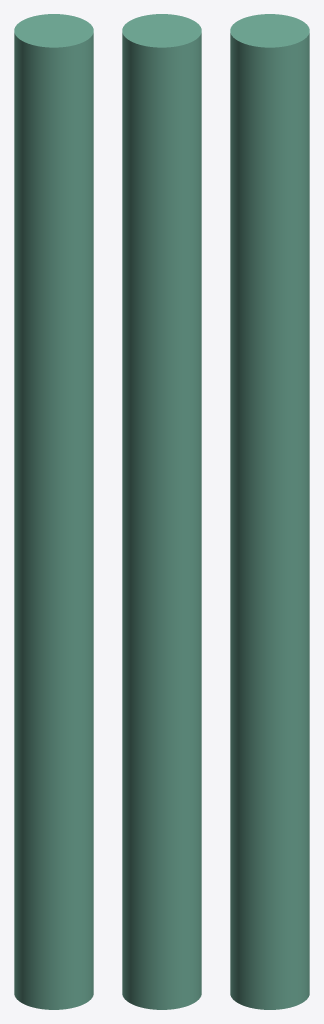
File: step_01.glb
3 renders of one model, left to right at view 1: azimuth 30°, elevation 25°; view 2: azimuth 150°, elevation 25°; view 3: azimuth 330°, elevation 25°, orthographic.
Visible parts, largest first — view 1: part__paddle actuator; view 2: part__paddle actuator; view 3: part__paddle actuator.
Boxes of the visible parts, box(x1,y1,x2,y2) form: part__paddle actuator: box(14, 14, 93, 1009); part__paddle actuator: box(122, 14, 201, 1009); part__paddle actuator: box(230, 14, 309, 1009).
Size of the model in its own units: 89.94 by 1200 by 89.97.
